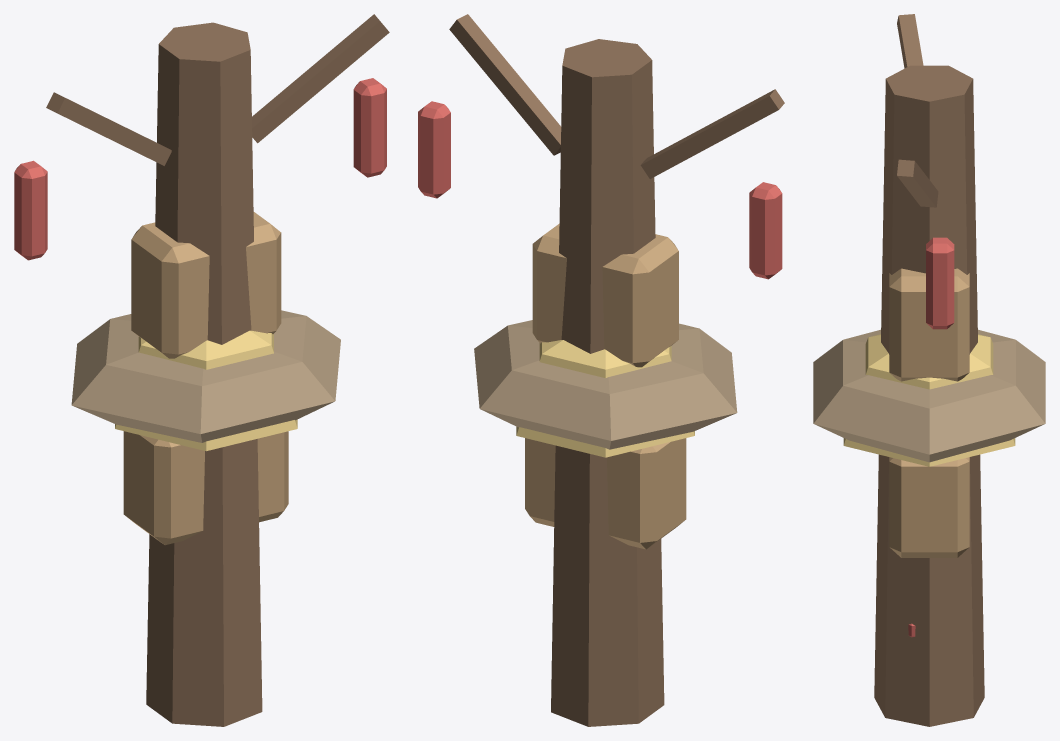
Rendered from town_goblin_totem.glb.
3 renders of one model, left to right at view 1: azimuth 30°, elevation 25°; view 2: azimuth 150°, elevation 25°; view 3: azimuth 270°, elevation 25°, orthographic. The views are drawn at different scales.
Visible parts, largest first — view 1: world; view 2: world; view 3: world.
Part boxes in pixels (x1,y1,x2,y2): world: (14,14,389,726); world: (418,14,784,726); world: (813,14,1045,726).
Size of the model in its own units: 1.16 by 2 by 0.6783.
